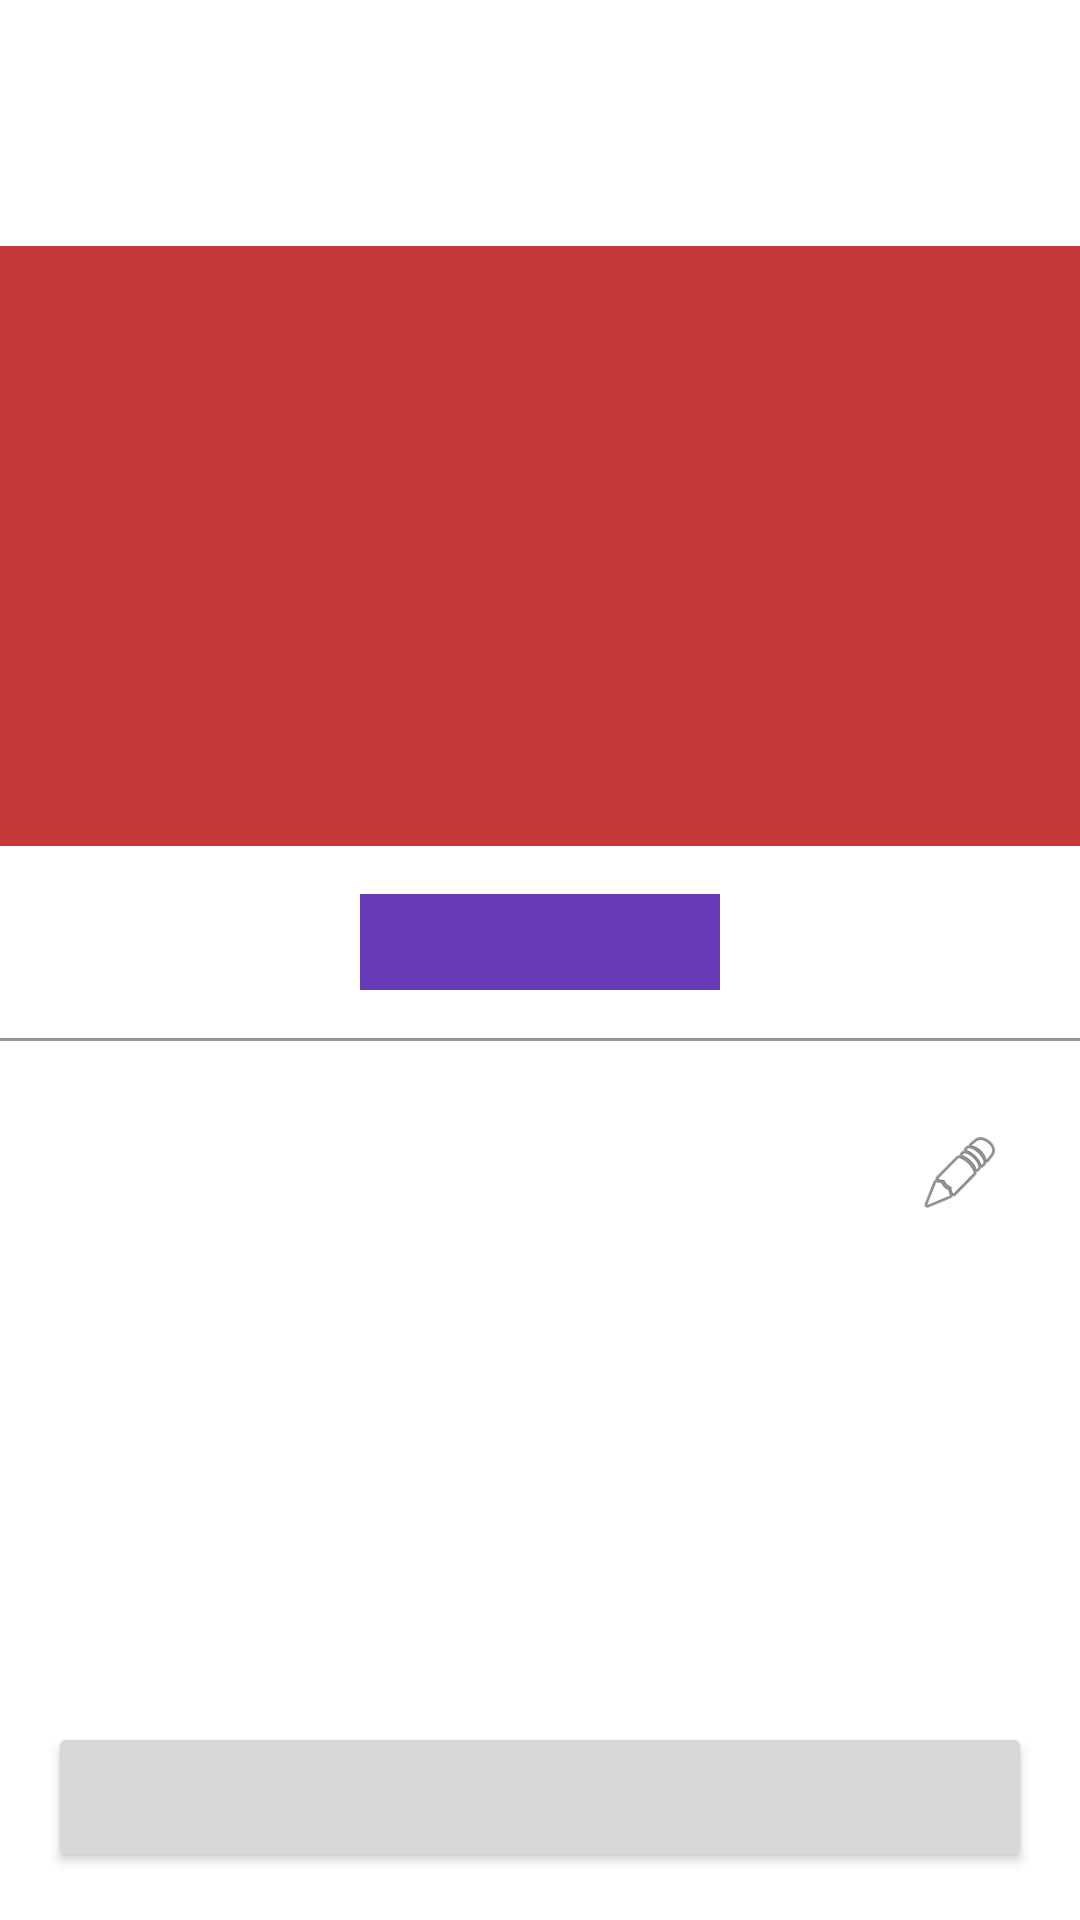

Where to tap for icons on this 1080 × 1920 app screen, as [x,y]:
edit: [959,1172]
